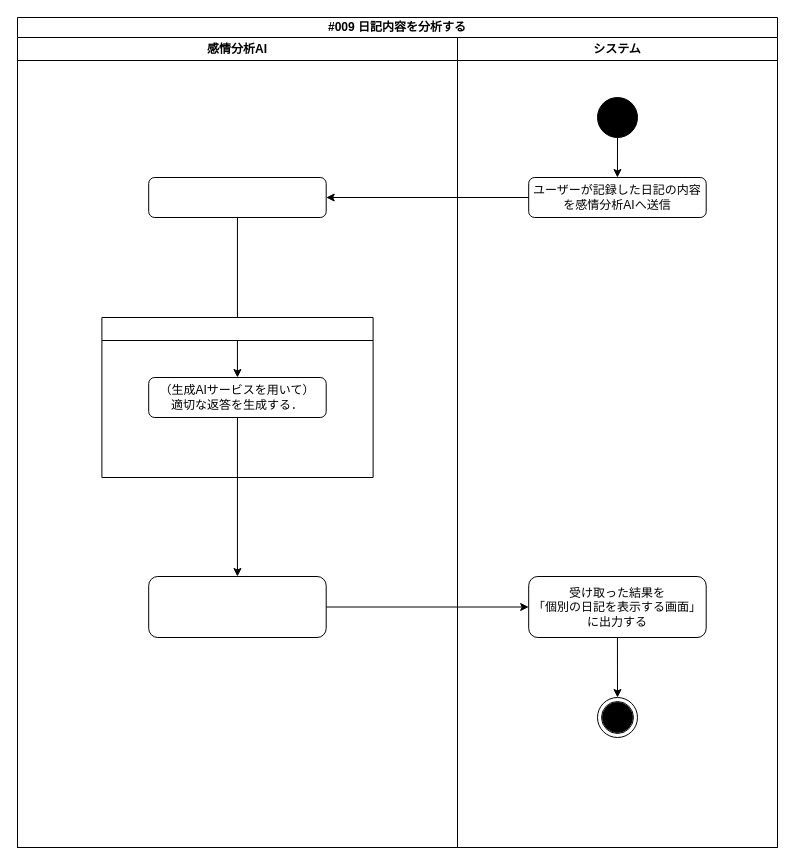
The diagram is 795 pixels wide and 865 high, and some of its shapes have lost their labels. The centre of each missing label's shape, as x and y in pixels:
システムからユーザーの日記の内容を取得: the point at 237,197
体裁を整えて， システムに生成結果をシステムに返す．: the point at 237,607
生成AIサービス: the point at 237,397
